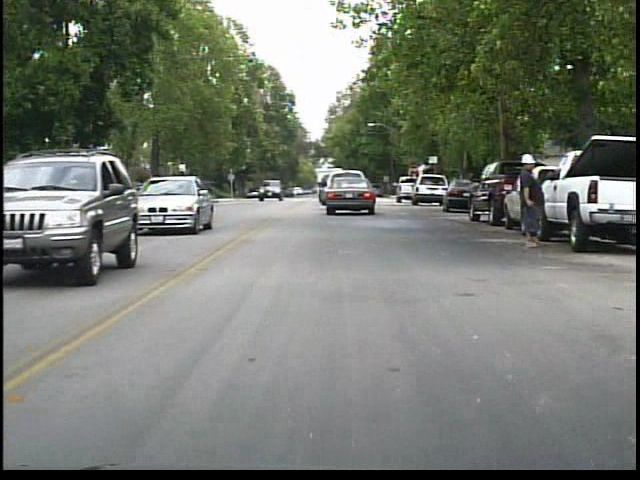person: (510, 148, 549, 252)
